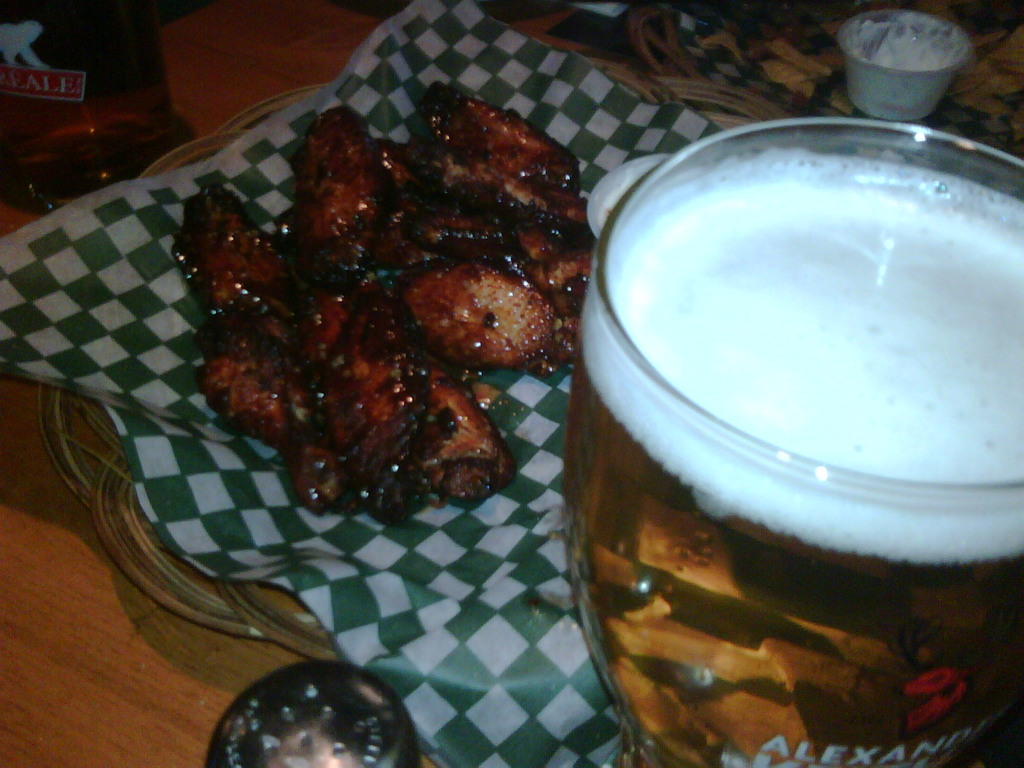Beer: (570, 157, 1023, 767)
